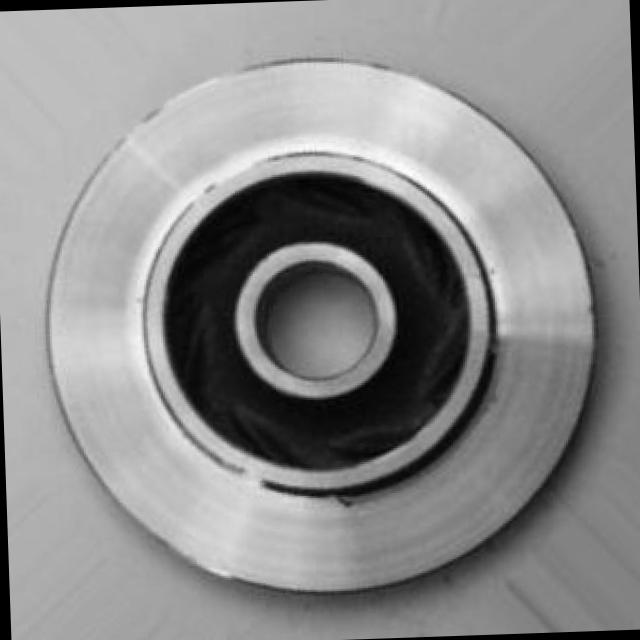Defect: (326, 484, 375, 520)
